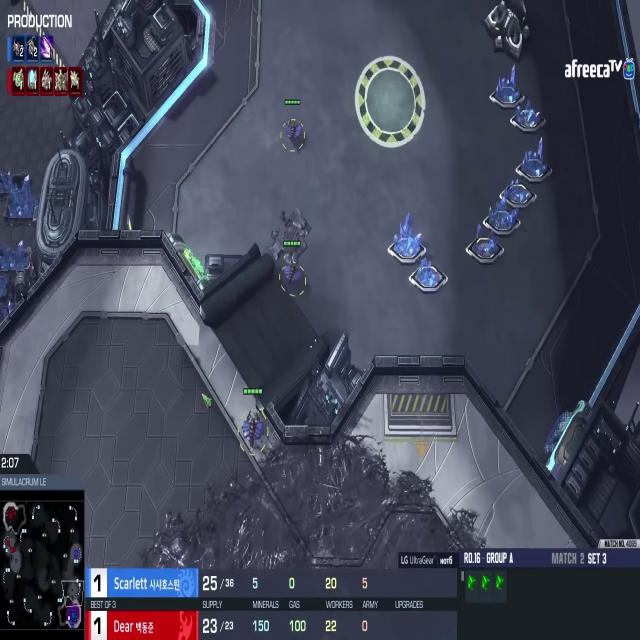drone: (237, 393, 270, 455), (279, 110, 310, 157), (280, 253, 306, 294)
